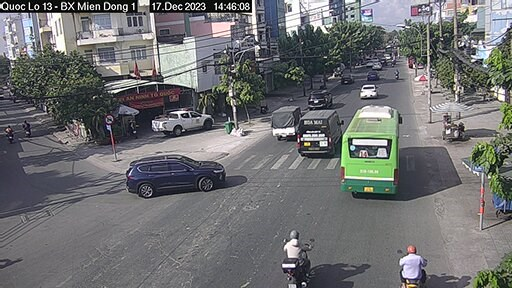bus: (338, 103, 407, 197)
car: (122, 153, 222, 187), (151, 103, 216, 132), (302, 109, 338, 161), (304, 86, 329, 113), (360, 83, 378, 98)
motorbike: (277, 226, 317, 288), (398, 243, 430, 281)
truck: (268, 99, 300, 140)
